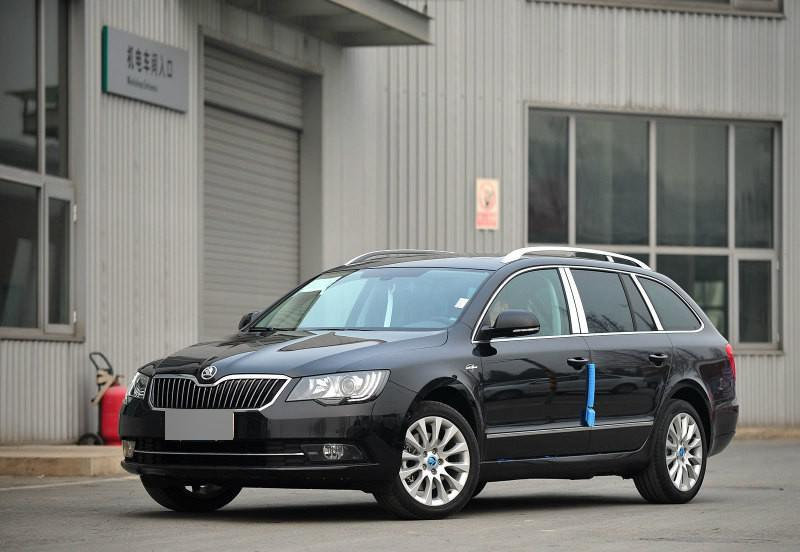Wagon: (117, 245, 742, 523)
